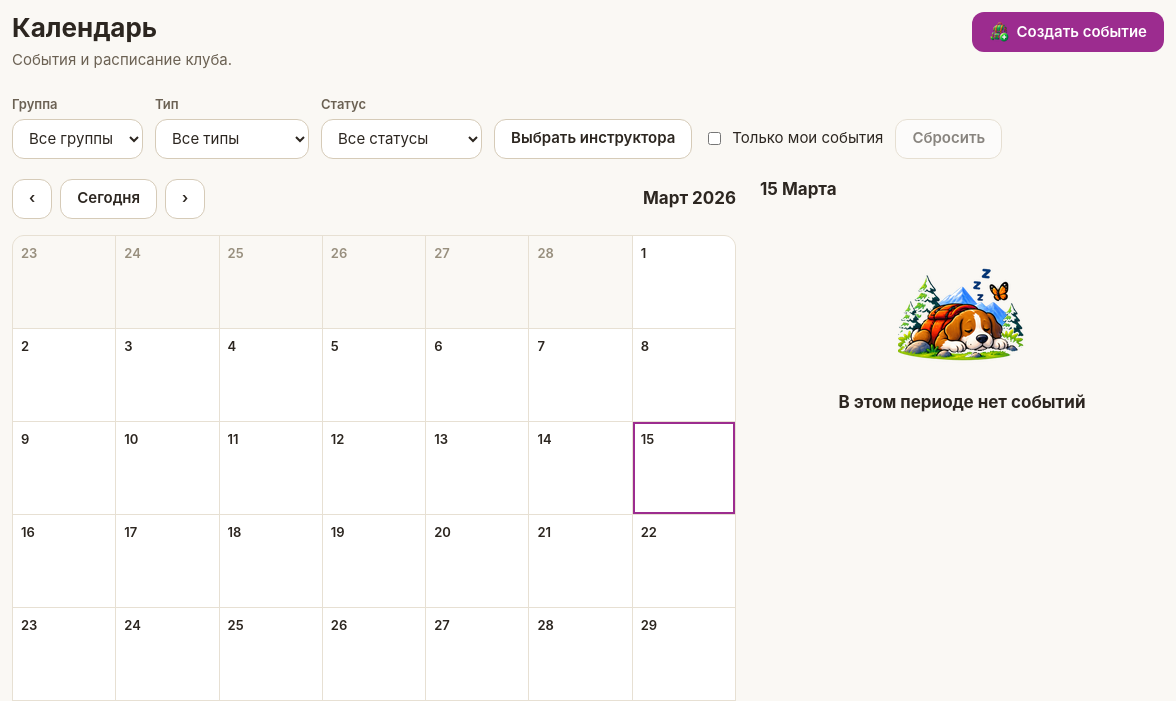
Test: EventsPage — month navigation › requests the next month's [from,to) range and updates the label
The image size is (1176, 701).
Expected: the text "Март 2026" is shown, [643,186,736,211]
Click the button "›".
click(185, 198)  # box [165,178,205,218]
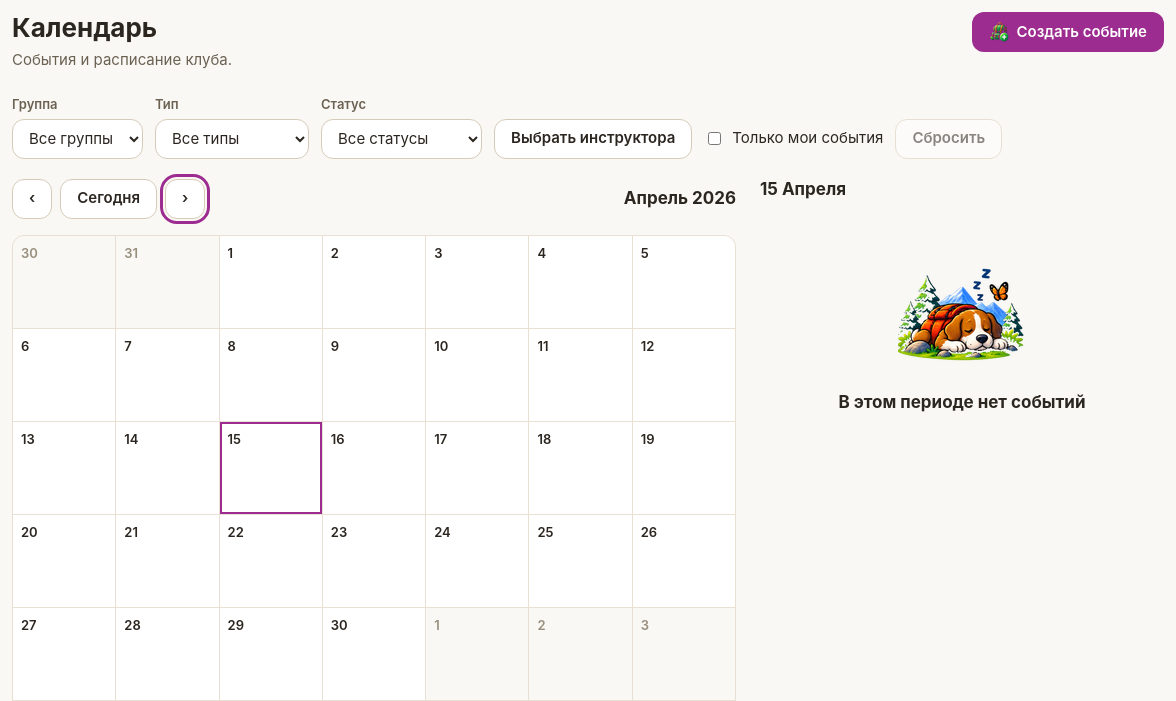
Result: the text "Апрель 2026" is shown at [624,186,736,211]
